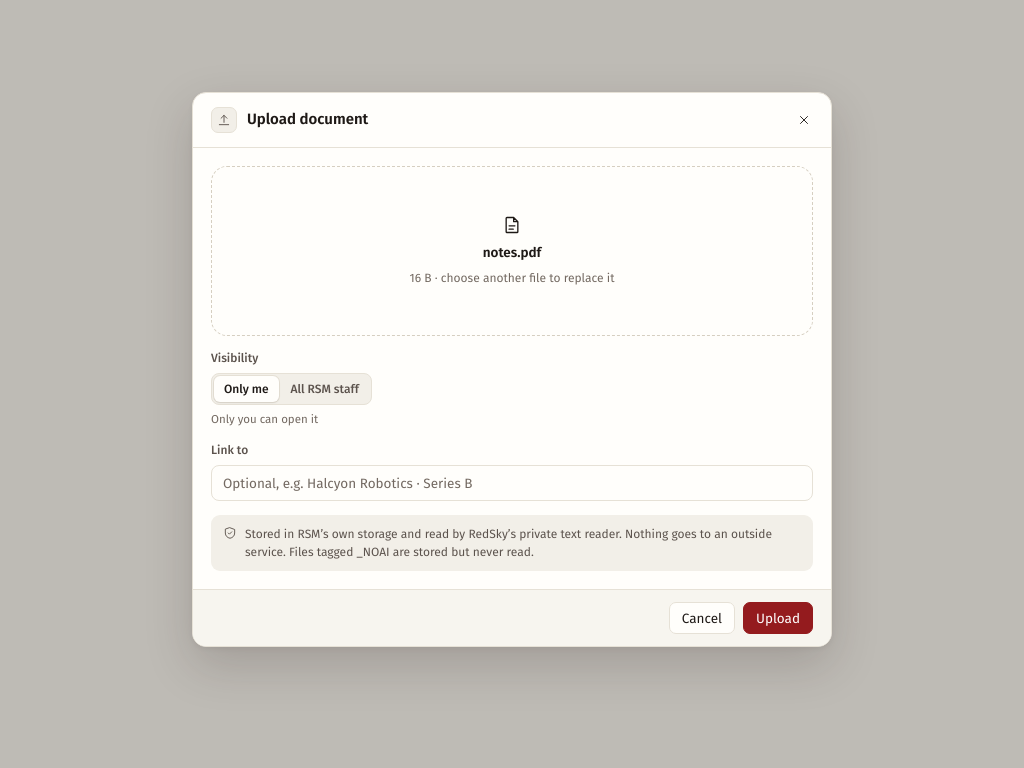
Scenario: DocumentUploadForm › shows the server’s reason when an upload is refused
Earlier steps of the test are not shown.
Click the button "Upload".
click(778, 619)  # box 743,603 -> 813,635
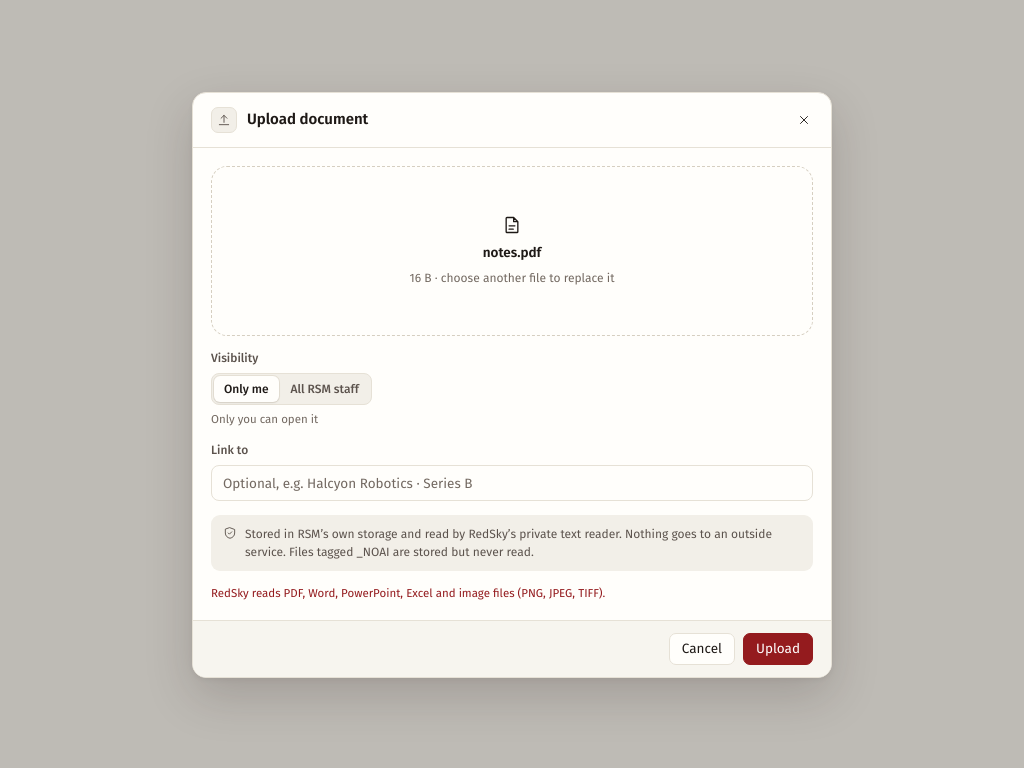
expect the message shows "RedSky reads PDF": met, box 211,587 -> 605,601
